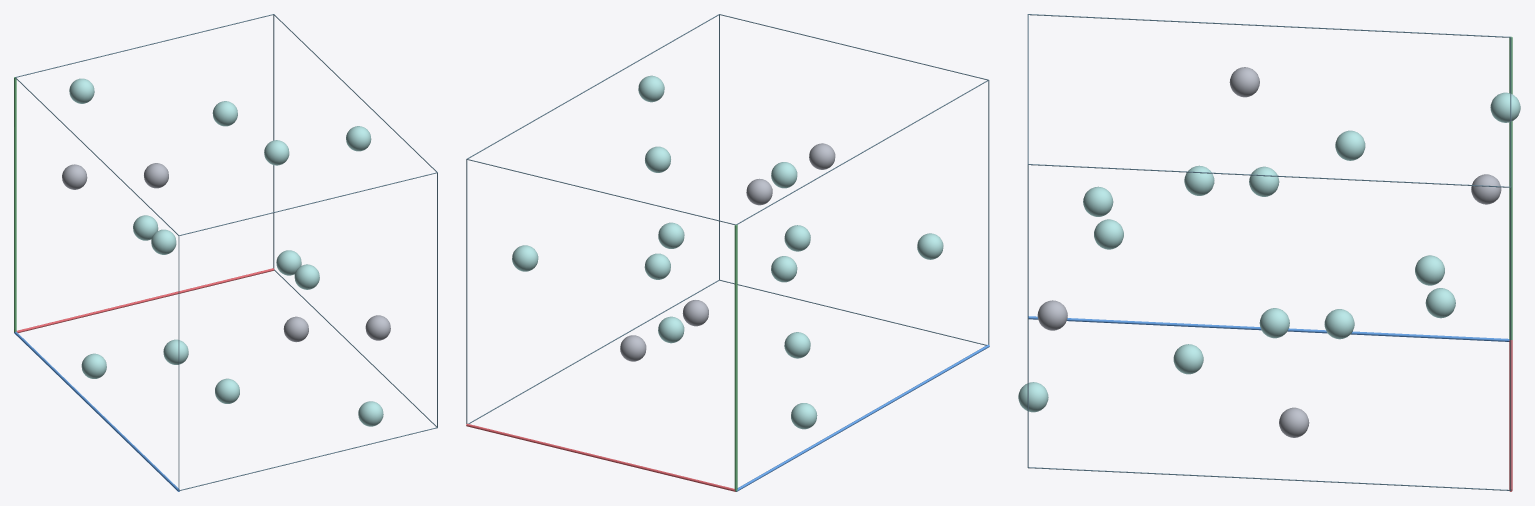
File: cod-1535698.glb
3 views of the same model, side by side, from view 1: azimuth 30°, elevation 25°; view 2: azimuth 150°, elevation 25°; view 3: azimuth 270°, elevation 25° (orthographic). The views are drawn at different scales.
Parts seen in each view (by area): view 1: Ô mạng và các trục a, b, c, Br3 · Br · 1 (×4), Br2 · Br · 1 (×4), Al1 · Al · 1 (×4), Br1 · Br · 1 (×4); view 2: Ô mạng và các trục a, b, c, Br3 · Br · 1 (×4), Br2 · Br · 1 (×4), Br1 · Br · 1 (×4), Al1 · Al · 1 (×4); view 3: Ô mạng và các trục a, b, c, Br1 · Br · 1 (×4), Br2 · Br · 1 (×4), Al1 · Al · 1 (×4), Br3 · Br · 1 (×4).
Boxes of the visible parts, x1,y1,x2,y2 form: Ô mạng và các trục a, b, c: [14, 14, 437, 491]; Br3 · Br · 1 (×4): [81, 126, 371, 378]; Br2 · Br · 1 (×4): [69, 78, 383, 426]; Al1 · Al · 1 (×4): [62, 163, 390, 342]; Br1 · Br · 1 (×4): [133, 101, 319, 403]; Ô mạng và các trục a, b, c: [466, 14, 989, 491]; Br3 · Br · 1 (×4): [512, 75, 943, 429]; Br2 · Br · 1 (×4): [644, 222, 810, 282]; Br1 · Br · 1 (×4): [645, 146, 810, 358]; Al1 · Al · 1 (×4): [620, 143, 835, 361]; Ô mạng và các trục a, b, c: [1027, 14, 1512, 491]; Br1 · Br · 1 (×4): [1094, 130, 1444, 374]; Br2 · Br · 1 (×4): [1018, 92, 1520, 412]; Al1 · Al · 1 (×4): [1037, 67, 1501, 437]; Br3 · Br · 1 (×4): [1083, 165, 1455, 339].
Size of the model in its own units: 8.69 by 7.12 by 10.62.
